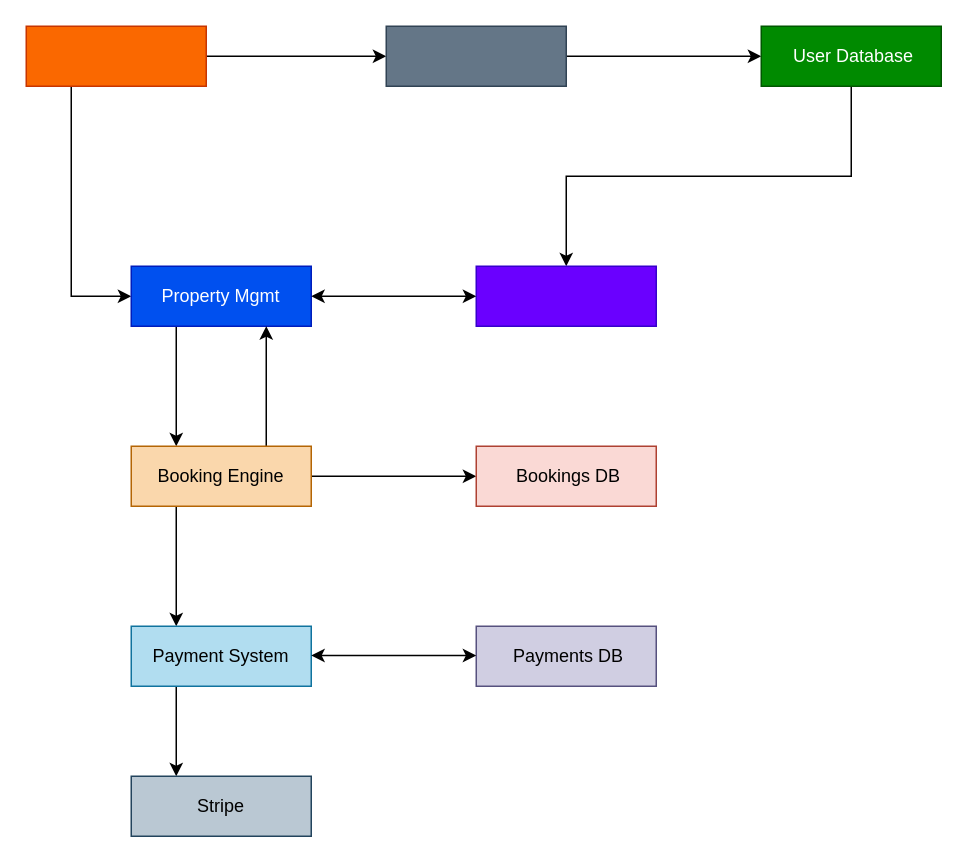
Some shapes in this 968 by 863 pixel diagram are drawn without their labels. Here are the shapes that lost their labels. From the top down, the box of each, then its label:
(25, 25, 206, 86): User
(385, 25, 566, 86): Authentication
(475, 265, 656, 326): Property DB
